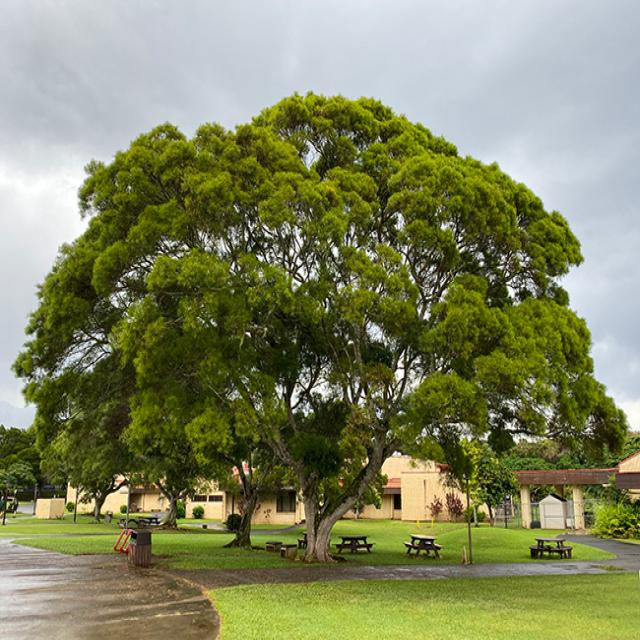Acacia: (23, 63, 615, 505)
